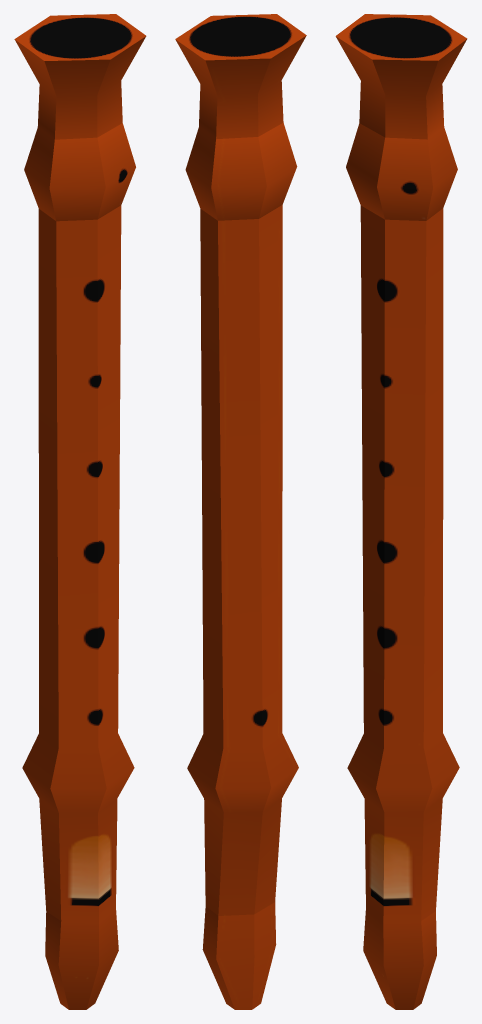
The model's file is flauta2_000003.obj.
3 views of the same model, side by side, from view 1: azimuth 30°, elevation 25°; view 2: azimuth 210°, elevation 25°; view 3: azimuth 330°, elevation 25° (orthographic).
Visible parts, largest first — view 1: f2_Flauta_1:pCylinder3; view 2: f2_Flauta_1:pCylinder3; view 3: f2_Flauta_1:pCylinder3.
Part boxes in pixels (x1,y1,x2,y2): f2_Flauta_1:pCylinder3: (14,14,146,1009); f2_Flauta_1:pCylinder3: (175,14,306,1009); f2_Flauta_1:pCylinder3: (335,14,467,1009).
Bounding box in the file's own units: 0.5648 × 5.09 × 0.5687.
